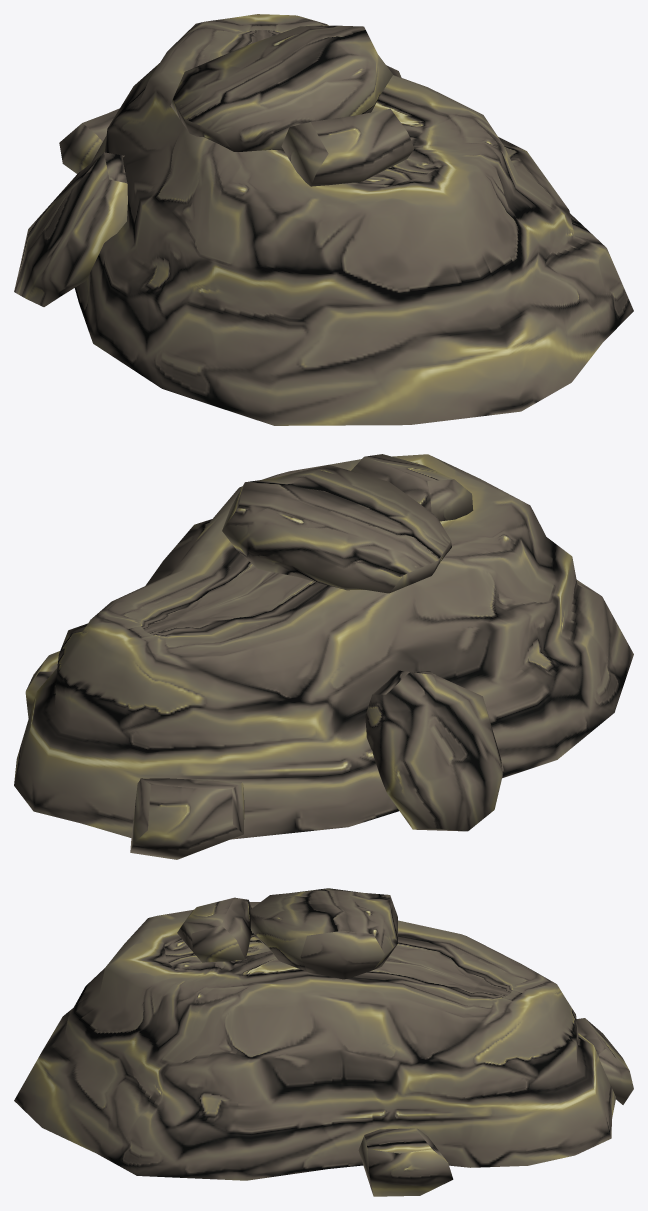
Rendered from Prop_Cliff_01.FBX.
The picture shows the model from 3 angles, top to bottom: view 1: azimuth 30°, elevation 25°; view 2: azimuth 150°, elevation 25°; view 3: azimuth 270°, elevation 25°; orthographic projection. The views are drawn at different scales.
Parts seen in each view (by area): view 1: Prop_Cliff_01; view 2: Prop_Cliff_01; view 3: Prop_Cliff_01.
Boxes of the visible parts, x1=… form: Prop_Cliff_01: x1=14, y1=14, x2=633, y2=425; Prop_Cliff_01: x1=14, y1=454, x2=633, y2=859; Prop_Cliff_01: x1=14, y1=888, x2=633, y2=1196.
Size of the model in its own units: 5.13 by 2.59 by 7.15.
